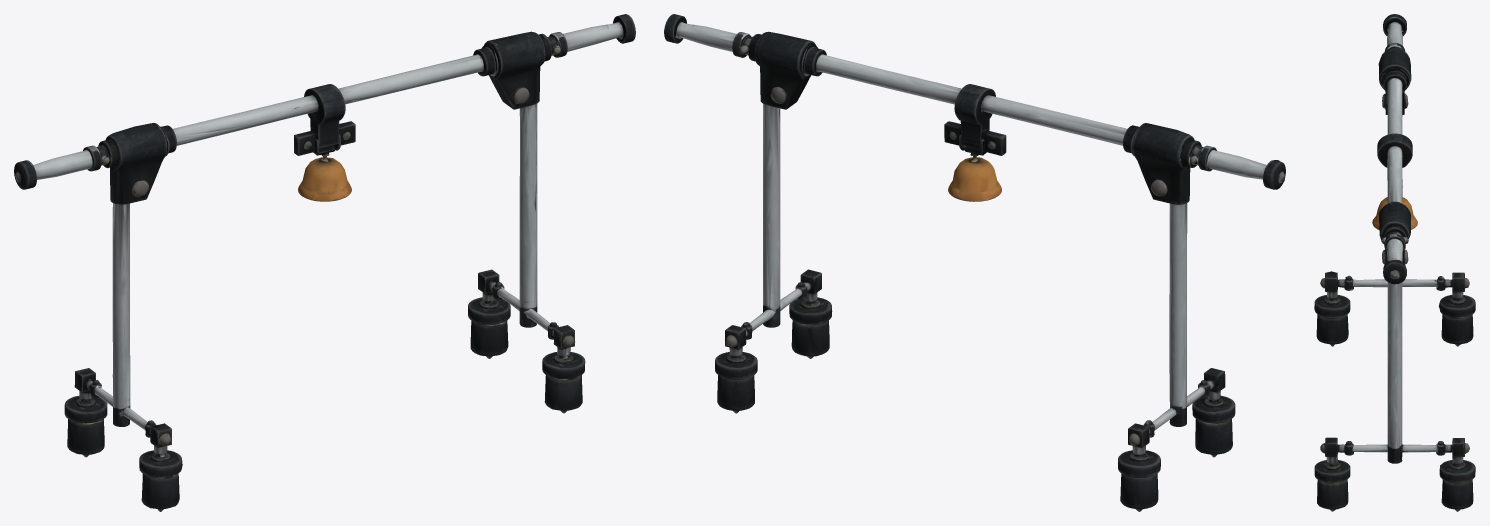
The model's file is rodpod_bell.glb.
3 views of the same model, side by side, from view 1: azimuth 30°, elevation 25°; view 2: azimuth 150°, elevation 25°; view 3: azimuth 270°, elevation 25° (orthographic). The views are drawn at different scales.
Visible parts, largest first — view 1: Mesh_0; view 2: Mesh_0; view 3: Mesh_0.
Boxes of the visible parts, x1,y1,x2,y2 form: Mesh_0: [14, 14, 635, 511]; Mesh_0: [664, 14, 1285, 511]; Mesh_0: [1314, 14, 1475, 511].
Size of the model in its own units: 1.9 by 1.04 by 0.5125.
Materials: 1 (1 with a texture image).
